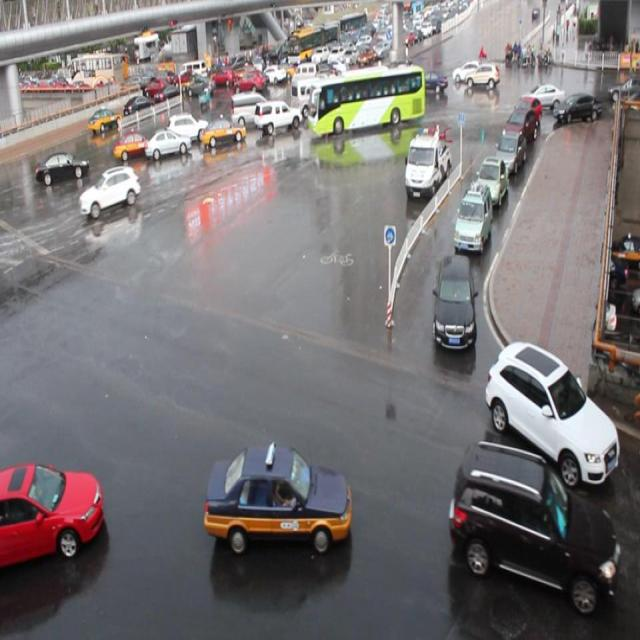bus: (402, 129, 452, 202)
car: (449, 439, 617, 609), (483, 338, 618, 486), (204, 443, 351, 552), (1, 462, 104, 564), (433, 254, 476, 349), (80, 166, 138, 217), (453, 182, 491, 249), (36, 146, 89, 184), (252, 96, 302, 133), (199, 112, 247, 150), (472, 156, 507, 208), (144, 126, 192, 160), (166, 108, 209, 144), (495, 124, 527, 170), (507, 106, 539, 150), (113, 129, 153, 158), (318, 90, 355, 117), (517, 94, 543, 132)
truck: (288, 75, 332, 115), (228, 90, 271, 128)
van: (309, 70, 424, 128)
